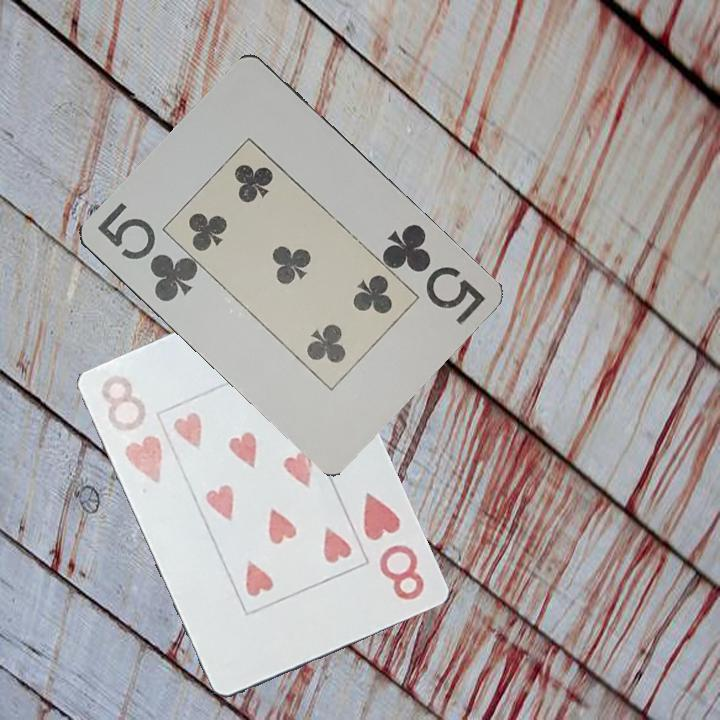5c: (378, 220, 488, 328), (93, 198, 200, 305)
8h: (357, 489, 428, 604), (97, 371, 167, 487)
